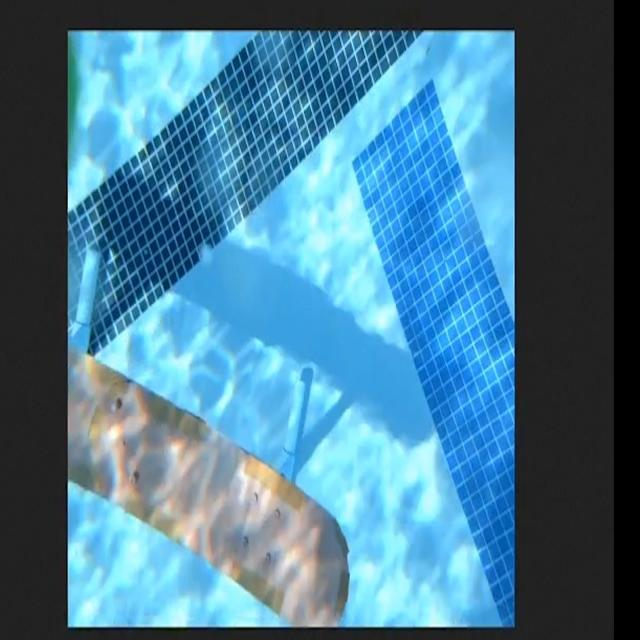Path: (69, 336, 352, 624)
